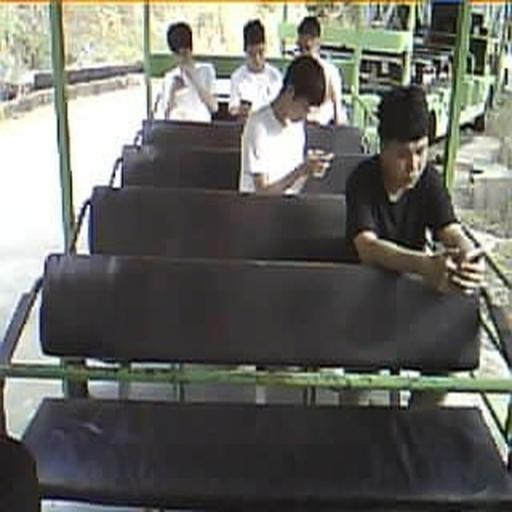persona: (344, 83, 486, 296), (238, 54, 334, 196), (152, 21, 219, 123), (288, 15, 348, 127), (228, 18, 284, 120)
